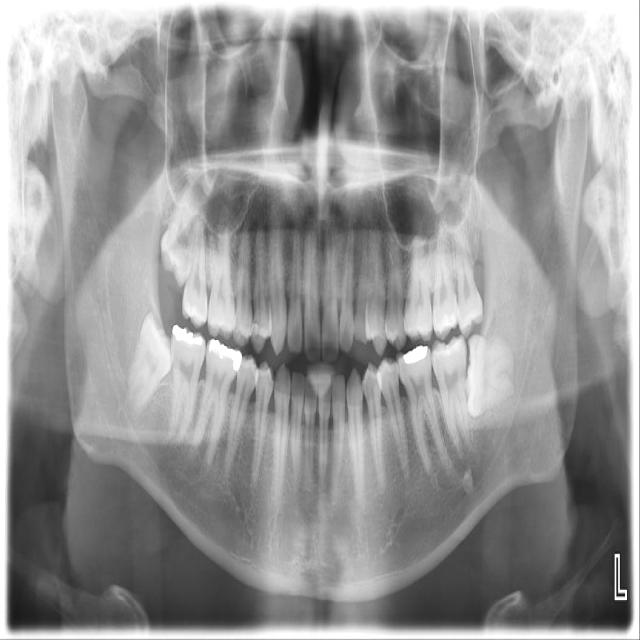Filling: (208, 340, 241, 370), (171, 324, 202, 344), (400, 344, 429, 365), (437, 306, 458, 335)
impacted tooth: (127, 311, 172, 419), (160, 179, 202, 283), (467, 335, 518, 417)
